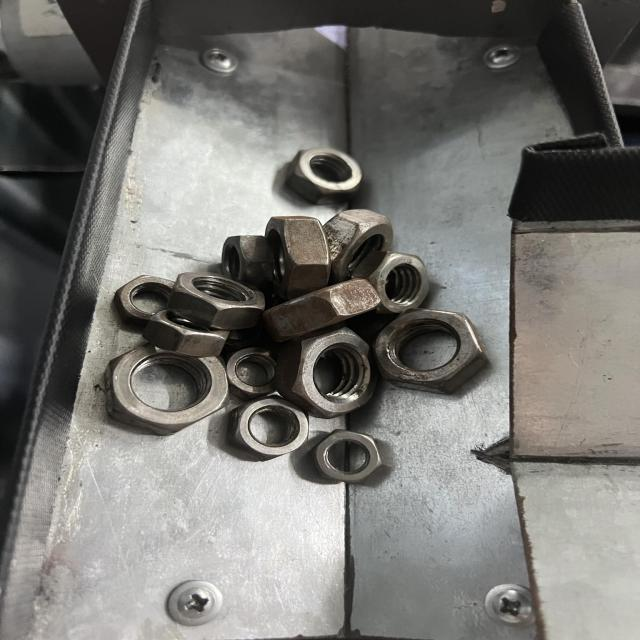nut: (109, 345, 230, 435), (373, 310, 493, 393), (170, 270, 270, 329), (230, 394, 310, 460), (294, 146, 364, 204), (314, 430, 385, 485)
